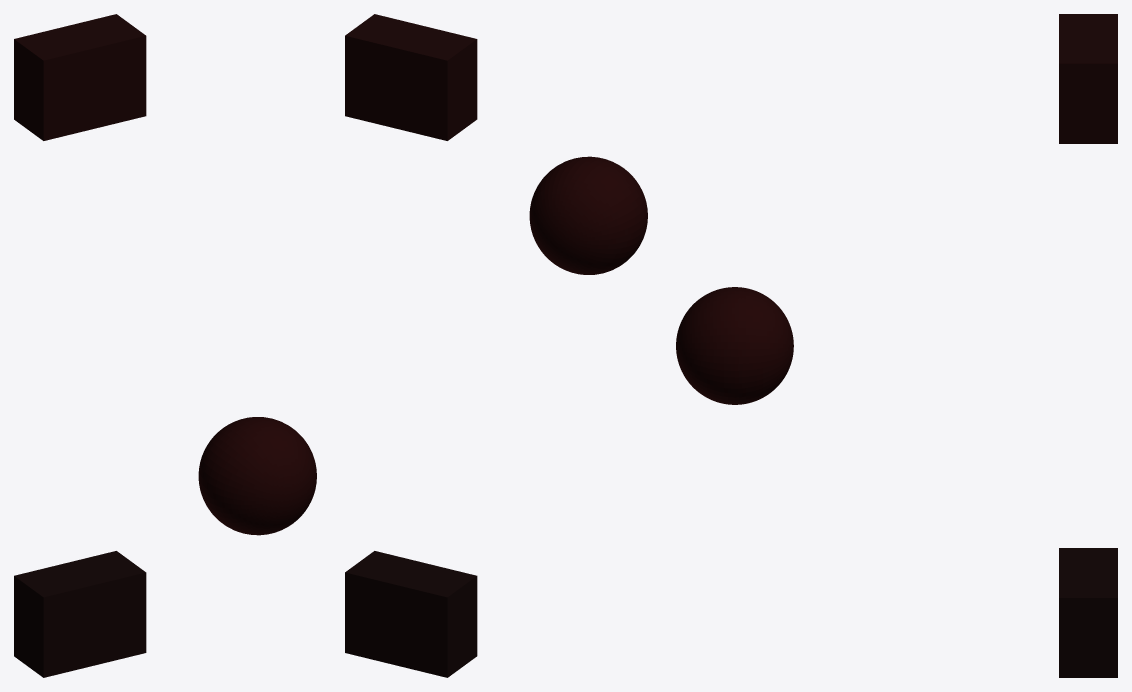
Rendered from label.gltf.
3 renders of one model, left to right at view 1: azimuth 30°, elevation 25°; view 2: azimuth 150°, elevation 25°; view 3: azimuth 270°, elevation 25°, orthographic.
Visible parts, largest first — view 1: Renderer Node; view 2: Renderer Node; view 3: Renderer Node.
Boxes of the visible parts, x1,y1,x2,y2 form: Renderer Node: (14, 14, 316, 677); Renderer Node: (345, 14, 647, 677); Renderer Node: (676, 14, 1117, 677).
Bounding box in the file's own units: 0.1 × 0.575 × 0.375.
